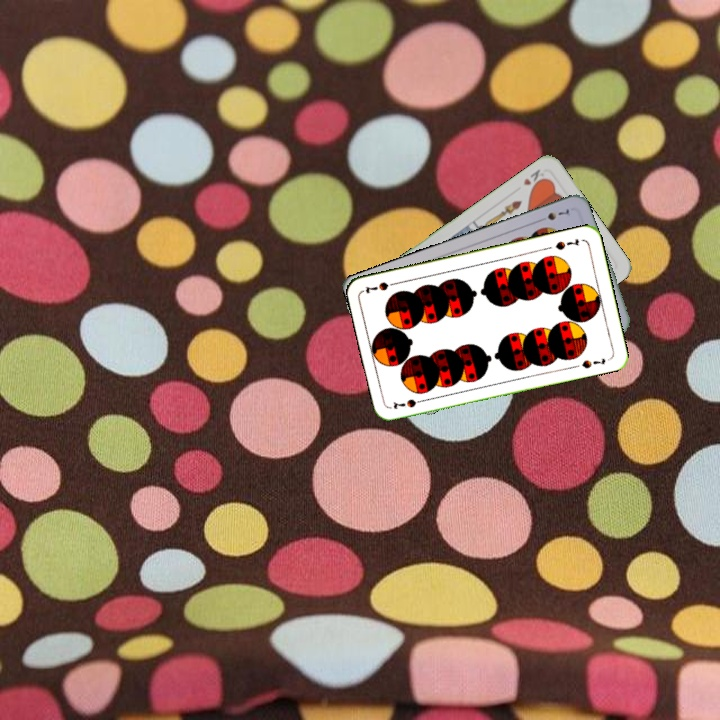HK: (519, 165, 548, 191)
S7: (534, 205, 574, 224), (389, 395, 428, 412), (551, 235, 582, 253)
